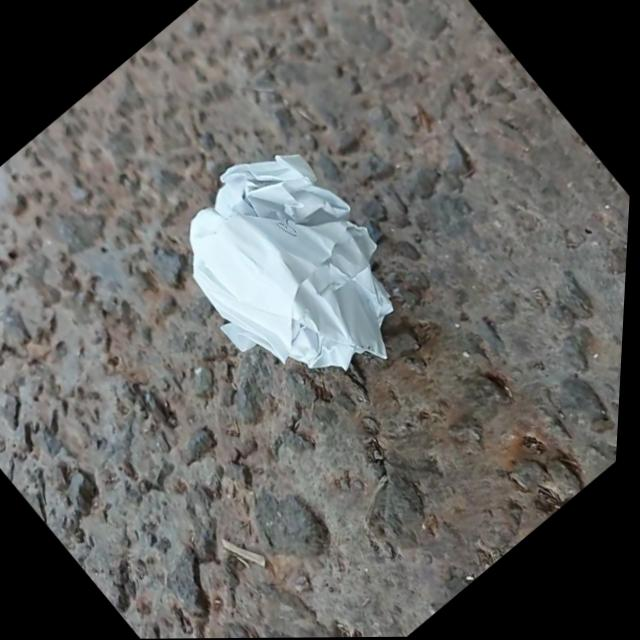paper: (103, 89, 446, 424)
